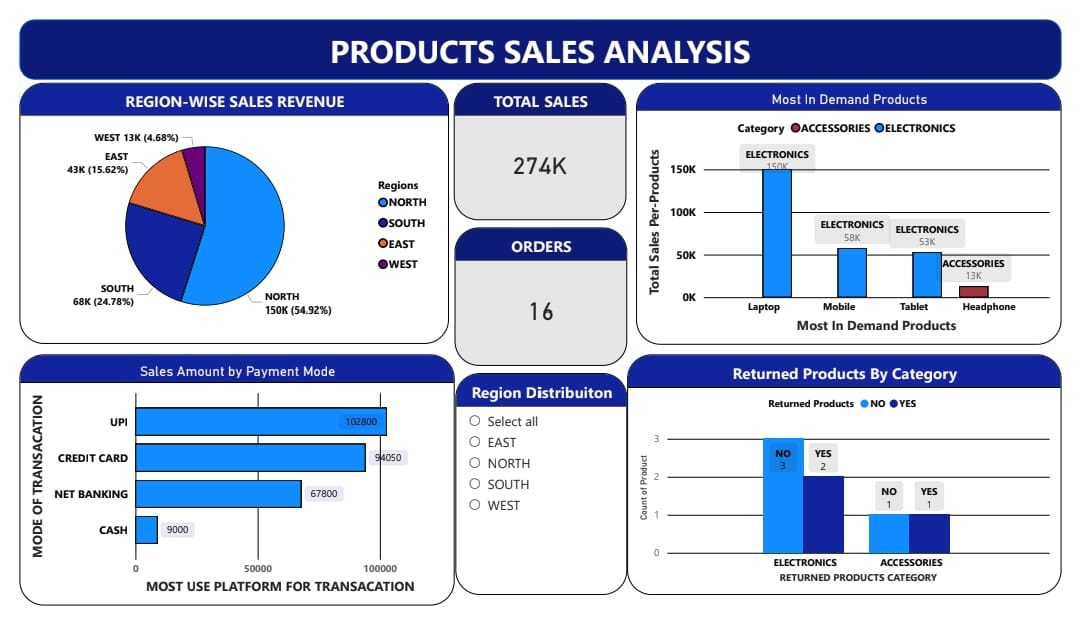

This screenshot's page, from the dashboard's own definition file:
{"tool":"powerbi","page":{"name":"Page 1","canvas":[1280,720],"ordinal":0},"visuals":[{"type":"shape","box":[0,0,1280.3,74.1],"z":0},{"type":"card","title":"TOTAL SALES","fields":{"Values":["Sum(in.Final sales Amount)"]},"box":[533.8,78.2,211.3,168.8],"z":1000},{"type":"card","title":"ORDERS","fields":{"Values":["Sum(in.Quantity)"]},"box":[534.9,256.3,211.5,169.2],"z":2000},{"type":"clusteredColumnChart","title":"Most In Demand Products","fields":{"Category":["in.Product"],"Y":["Sum(in.Final sales Amount)"],"Series":["in.Category"]},"box":[757.5,78.2,522.8,321.1],"z":3000},{"type":"clusteredBarChart","title":"Sales Amount by Payment Mode","fields":{"Category":["in.Payment Mode"],"Y":["Sum(in.Final sales Amount)"]},"box":[0,410.5,534.9,309.7],"z":4000},{"type":"pieChart","title":"REGION-WISE SALES REVENUE","fields":{"Category":["in.Region"],"Y":["Sum(in.Final sales Amount)"]},"box":[0,78.2,528.3,319.7],"z":5000},{"type":"clusteredColumnChart","title":"Returned Products By Category","fields":{"Category":["in.Category"],"Series":["in.Returned"],"Y":["CountNonNull(in.Product)"]},"box":[746.4,410.5,533.7,296.1],"z":6000},{"type":"listSlicer","title":"Region Distribuiton ","fields":{"Values":["in.Region"]},"box":[536.1,434.1,210.2,272.4],"z":7000}]}

Visuals, with their boxes on the page's 1280x720 design canvas (x1, y1, x2, y2). These are canvas units, not pixel positions in the 1080x624 screenshot, which may show the page scaled, cropped or inside an application window:
shape: <bbox>0, 0, 1280, 74</bbox>
"TOTAL SALES" card: <bbox>534, 78, 745, 247</bbox>
"ORDERS" card: <bbox>535, 256, 746, 426</bbox>
"Most In Demand Products" clusteredColumnChart: <bbox>758, 78, 1280, 399</bbox>
"Sales Amount by Payment Mode" clusteredBarChart: <bbox>0, 410, 535, 720</bbox>
"REGION-WISE SALES REVENUE" pieChart: <bbox>0, 78, 528, 398</bbox>
"Returned Products By Category" clusteredColumnChart: <bbox>746, 410, 1280, 707</bbox>
"Region Distribuiton " listSlicer: <bbox>536, 434, 746, 706</bbox>
